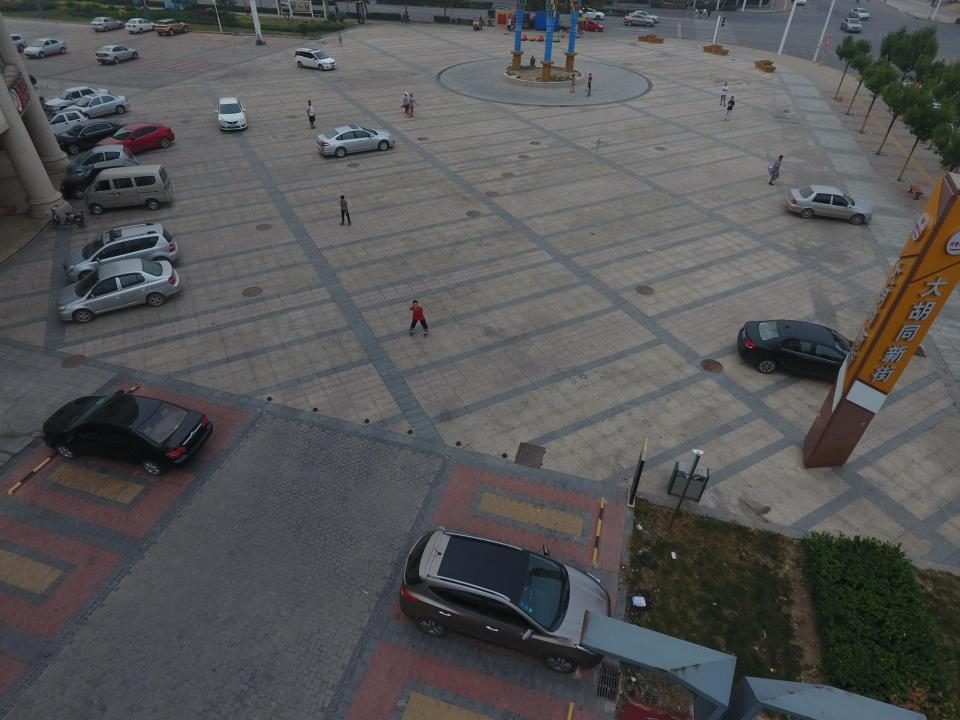car: (399, 530, 611, 674), (41, 390, 213, 478), (737, 319, 879, 386), (54, 257, 182, 324), (62, 223, 178, 285), (60, 159, 154, 200), (784, 184, 873, 224), (93, 122, 175, 156), (51, 118, 128, 154), (66, 144, 138, 181), (316, 126, 395, 158), (44, 85, 110, 114), (62, 93, 130, 120), (33, 110, 93, 137), (29, 109, 92, 131), (215, 95, 247, 132), (295, 47, 336, 72), (23, 38, 67, 58), (96, 44, 138, 64), (154, 18, 189, 36), (90, 16, 124, 32), (0, 34, 28, 53), (126, 17, 156, 34), (569, 17, 604, 31), (624, 13, 655, 27), (628, 10, 659, 23), (840, 17, 863, 33), (575, 8, 605, 20), (849, 8, 870, 20)
van: (84, 164, 174, 215)
